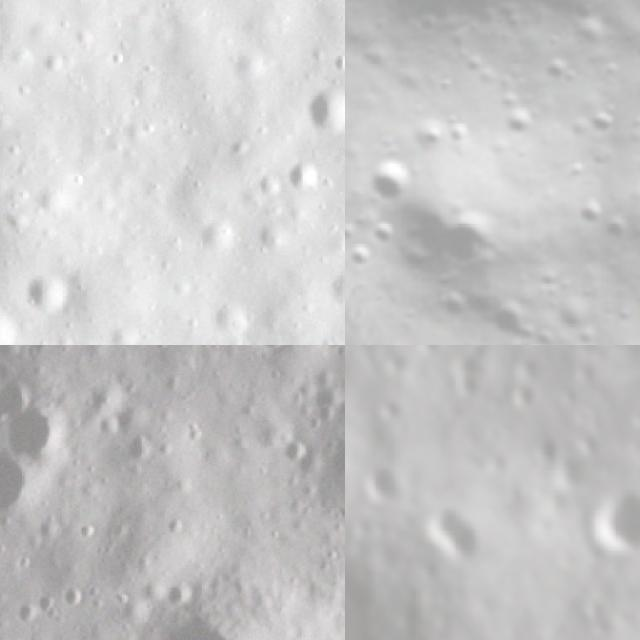crater: (372, 175, 518, 318), (118, 582, 279, 640), (0, 389, 78, 478), (12, 251, 91, 328), (0, 442, 51, 542), (352, 148, 422, 216), (287, 70, 345, 151), (480, 286, 551, 345), (587, 491, 640, 563), (576, 88, 632, 147), (279, 142, 334, 202), (490, 93, 545, 148), (428, 511, 472, 570), (111, 426, 162, 474), (315, 247, 345, 324), (272, 424, 317, 471), (593, 213, 639, 257), (561, 196, 605, 240), (313, 431, 345, 488), (0, 283, 29, 345), (26, 584, 66, 626), (50, 580, 90, 618), (7, 594, 44, 634), (363, 468, 396, 504), (623, 21, 640, 76), (245, 345, 298, 361)
